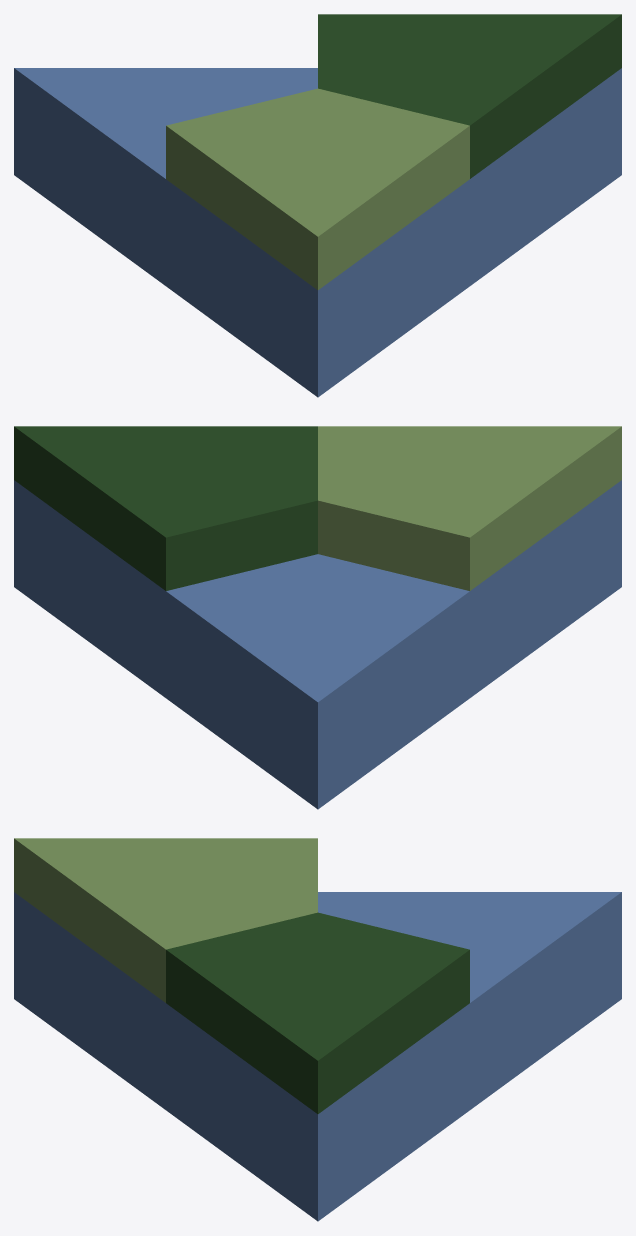
File: tri_6.glb
3 renders of one model, top to bottom at view 1: azimuth 30°, elevation 25°; view 2: azimuth 150°, elevation 25°; view 3: azimuth 270°, elevation 25°, orthographic.
Visible parts, largest first — view 1: tri_6; view 2: tri_6; view 3: tri_6.
Part boxes in pixels (bbox=[...]): tri_6: bbox=[14, 14, 621, 397]; tri_6: bbox=[14, 426, 621, 809]; tri_6: bbox=[14, 838, 621, 1221].
Size of the model in its own units: 0.7423 by 0.25 by 0.8571.
